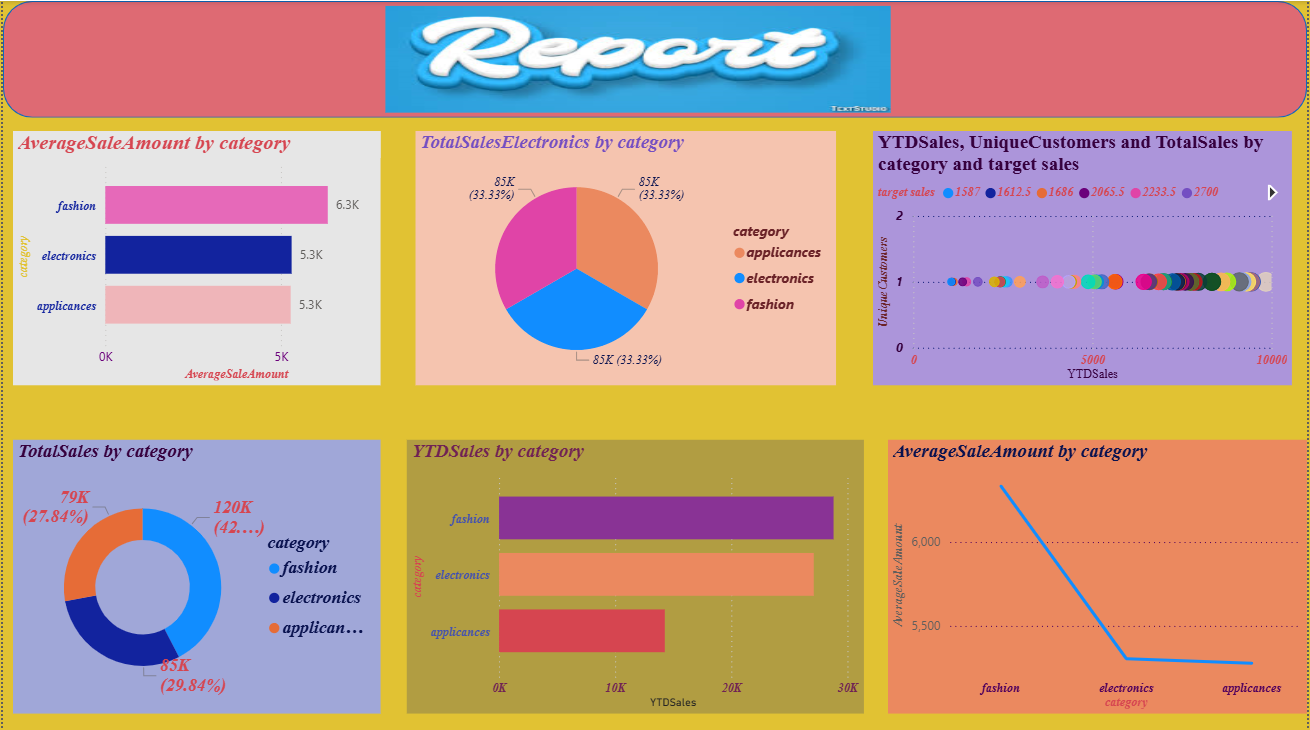

The dashboard page shown, as its layout file describes it:
{"tool":"powerbi","page":{"name":"reports","canvas":[1280,720],"ordinal":4},"visuals":[{"type":"barChart","fields":{"Category":["product table.category"],"Y":["sales table.AverageSaleAmount"]},"box":[9.7,127.9,360.7,249.7],"z":0},{"type":"donutChart","fields":{"Category":["product table.category"],"Y":["sales table.TotalSales"]},"box":[9.7,430.7,360.7,269],"z":1000},{"type":"pieChart","fields":{"Category":["product table.category"],"Y":["sales table.TotalSalesElectronics"]},"box":[405.4,127.9,412.6,249.7],"z":2000},{"type":"clusteredBarChart","fields":{"Category":["product table.category"],"Y":["sales table.YTDSales"]},"box":[396.9,430.7,448.8,269],"z":3000},{"type":"scatterChart","fields":{"Category":["product table.category"],"X":["sales table.YTDSales"],"Y":["sales table.UniqueCustomers"],"Size":["sales table.TotalSales"],"Series":["sales table.target sales"]},"box":[854.2,127.9,411.4,249.7],"z":4000},{"type":"lineChart","fields":{"Category":["product table.category"],"Y":["sales table.AverageSaleAmount"]},"box":[868.6,430.7,411.4,269],"z":5000},{"type":"image","box":[439.1,0,399.3,114.6],"z":6000},{"type":"shape","box":[0,0,1280,114.6],"z":7000},{"type":"image","box":[370.4,0,505.5,114.6],"z":8000}]}

Visuals, with their boxes in screenshot pixels (x1, y1, x2, y2), scaled from the page's 1280x720 canvas onto the 1310x730 screenshot:
barChart - product table.category x sales table.AverageSaleAmount: left=10, top=130, right=379, bottom=383
donutChart - product table.category x sales table.TotalSales: left=10, top=437, right=379, bottom=709
pieChart - product table.category x sales table.TotalSalesElectronics: left=415, top=130, right=837, bottom=383
clusteredBarChart - product table.category x sales table.YTDSales: left=406, top=437, right=866, bottom=709
scatterChart - product table.category x sales table.YTDSales: left=874, top=130, right=1295, bottom=383
lineChart - product table.category x sales table.AverageSaleAmount: left=889, top=437, right=1309, bottom=709
image: left=449, top=0, right=858, bottom=116
shape: left=0, top=0, right=1309, bottom=116
image: left=379, top=0, right=896, bottom=116
